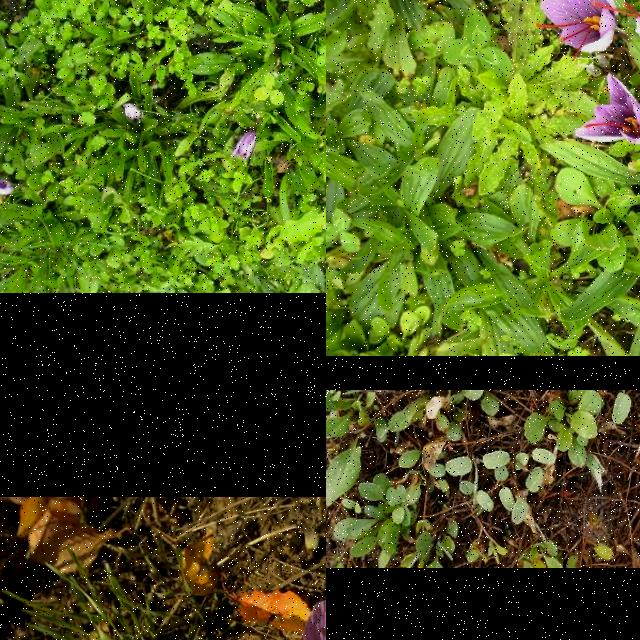flower: (534, 0, 618, 59), (590, 0, 640, 96), (574, 75, 640, 145), (232, 130, 256, 168), (124, 104, 142, 120), (0, 179, 12, 195)
